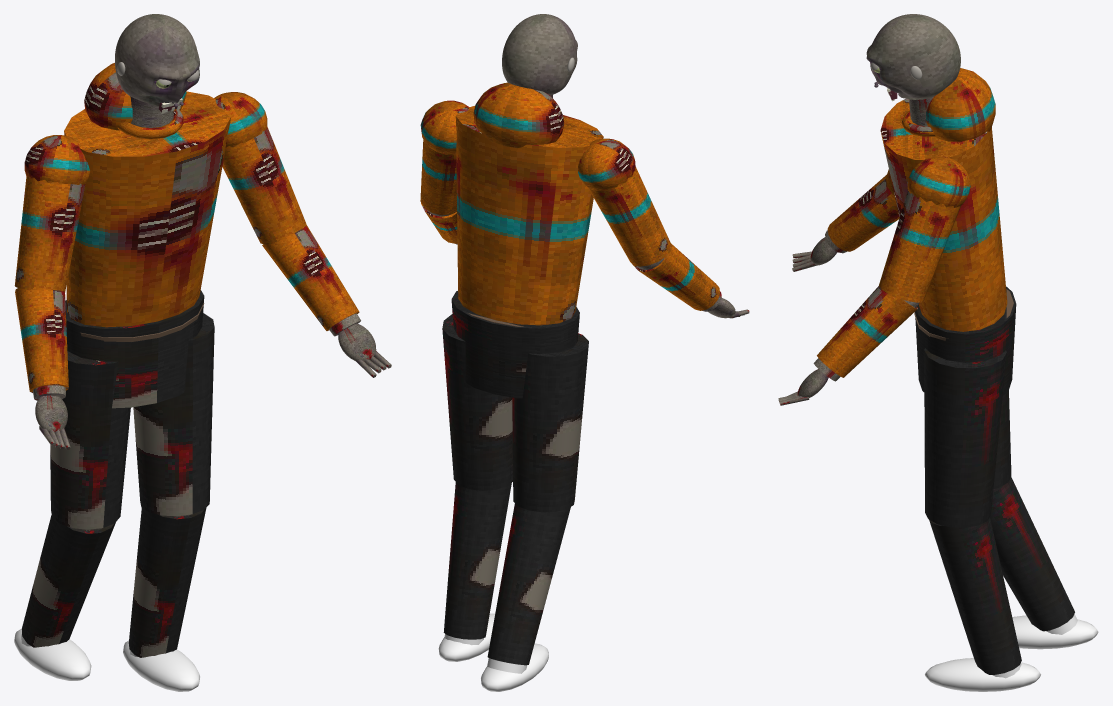
The model's file is Zombie_095.glb.
3 renders of one model, left to right at view 1: azimuth 30°, elevation 25°; view 2: azimuth 150°, elevation 25°; view 3: azimuth 270°, elevation 25°, orthographic. The views are drawn at different scales.
Parts seen in each view (by area): view 1: Zombie_095, object 18, object 4, object 12, object 13, object 5; view 2: Zombie_095, object 18, object 4, object 12; view 3: Zombie_095, object 18, object 12, object 4, object 13.
Boxes of the visible parts, left/top/right/bottom form: Zombie_095: left=14, top=63, right=306, bottom=691; object 18: left=115, top=14, right=199, bottom=106; object 4: left=15, top=288, right=68, bottom=392; object 12: left=262, top=225, right=359, bottom=330; object 13: left=338, top=323, right=376, bottom=361; object 5: left=35, top=395, right=67, bottom=431; Zombie_095: left=420, top=82, right=671, bottom=691; object 18: left=502, top=14, right=577, bottom=95; object 4: left=633, top=243, right=719, bottom=310; object 12: left=421, top=202, right=457, bottom=243; Zombie_095: left=879, top=68, right=1098, bottom=691; object 18: left=866, top=14, right=960, bottom=99; object 12: left=817, top=286, right=917, bottom=377; object 4: left=827, top=174, right=899, bottom=251; object 13: left=797, top=369, right=828, bottom=397.
Size of the model in its own units: 0.8406 by 1.68 by 0.7478.
15 materials, 5 textured.
